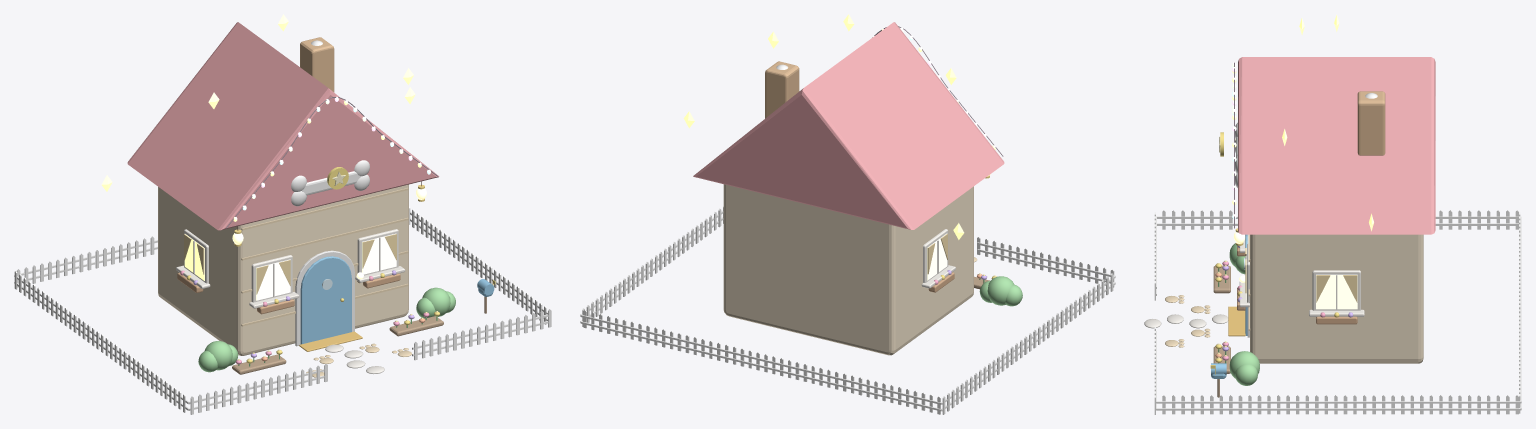
The model's file is building_pets_L10.glb.
3 views of the same model, side by side, from view 1: azimuth 30°, elevation 25°; view 2: azimuth 150°, elevation 25°; view 3: azimuth 270°, elevation 25° (orthographic). The views are drawn at different scales.
Parts seen in each view (by area): view 1: Body, pets_L10; view 2: Body, pets_L10; view 3: Body, pets_L10.
Part boxes in pixels (x1,y1,x2,y2): Body: [127, 22, 439, 377]; pets_L10: [14, 14, 551, 414]; Body: [693, 22, 1004, 355]; pets_L10: [580, 14, 1115, 414]; Body: [1165, 57, 1435, 363]; pets_L10: [1144, 14, 1521, 414].
Size of the model in its own units: 25.35 by 19.77 by 21.74.
